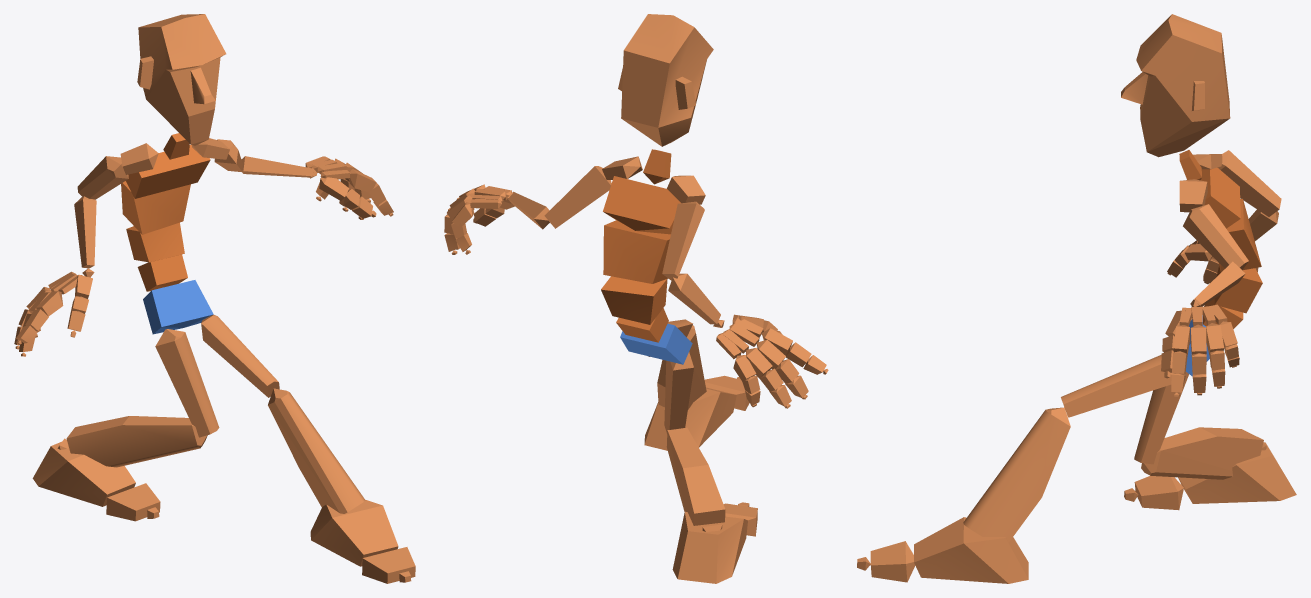
3 views of the same model, side by side, from view 1: azimuth 30°, elevation 25°; view 2: azimuth 150°, elevation 25°; view 3: azimuth 270°, elevation 25° (orthographic). The views are drawn at different scales.
Visible parts, largest first — view 1: BOPED_Head, BOPED_R_leg, BOPED_L_leg, BOPED_R_foot01, BOPED_R_foot, BOPED_R_legup, Bone01, Bone04, Bone05, BOPED_L_legup, Bone03, BOPED_R_foot_toe04 (+8 smaller); view 2: BOPED_Head, BOPED_R_foot, BOPED_R_leg, Bone04, Bone05, BOPED_R_foot01, Bone03, BOPED_R_arm_upper, BOPED_R_legup, BOPED_L_arm_upper, Bone01, BOPED_R_arm_fore (+8 smaller); view 3: BOPED_Head, BOPED_L_leg, BOPED_R_foot01, BOPED_R_leg, BOPED_R_foot, BOPED_L_legup, BOPED_L_arm_upper, BOPED_R_legup, BOPED_R_arm_upper, Bone05, BOPED_R_foot_toe04, BOPED_R_foot_toe01 (+5 smaller).
Boxes of the visible parts, box(x1,y1,x2,y2) form: BOPED_Head: box(137, 14, 226, 145); BOPED_R_leg: box(66, 416, 207, 467); BOPED_L_leg: box(268, 388, 365, 513); BOPED_R_foot01: box(310, 500, 398, 566); BOPED_R_foot: box(32, 439, 135, 506); BOPED_R_legup: box(155, 329, 219, 437); Bone01: box(143, 280, 213, 334); Bone04: box(121, 181, 190, 234); Bone05: box(126, 144, 210, 198); BOPED_L_legup: box(201, 314, 279, 397); Bone03: box(126, 222, 184, 262); BOPED_R_foot_toe04: box(362, 547, 415, 583); BOPED_Head: box(618, 14, 713, 146); BOPED_R_foot: box(672, 511, 747, 583); BOPED_R_leg: box(666, 427, 725, 525); Bone04: box(603, 220, 670, 283); Bone05: box(603, 176, 680, 234); BOPED_R_foot01: box(644, 387, 736, 450); Bone03: box(601, 276, 667, 324); BOPED_R_arm_upper: box(662, 201, 704, 280); BOPED_R_legup: box(664, 352, 693, 433); BOPED_L_arm_upper: box(544, 166, 611, 228); Bone01: box(620, 323, 692, 364); BOPED_R_arm_fore: box(668, 273, 720, 324); BOPED_Head: box(1121, 14, 1230, 157); BOPED_L_leg: box(963, 407, 1070, 542); BOPED_R_foot01: box(914, 517, 1028, 583); BOPED_R_leg: box(1141, 427, 1263, 479); BOPED_R_foot: box(1178, 442, 1296, 503); BOPED_L_legup: box(1061, 354, 1176, 417); BOPED_L_arm_upper: box(1183, 204, 1248, 269); BOPED_R_legup: box(1134, 352, 1188, 464); BOPED_R_arm_upper: box(1217, 150, 1281, 216); Bone05: box(1200, 167, 1240, 228); BOPED_R_foot_toe04: box(870, 541, 915, 582); BOPED_R_foot_toe01: box(1134, 475, 1183, 510).
Bounding box in the file's own units: 130 × 162 × 126.
